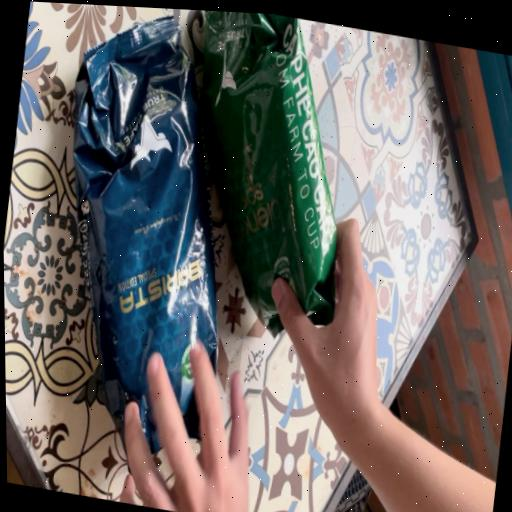cafe_hat: (73, 16, 217, 453)
cafe_xay: (201, 11, 335, 335)
